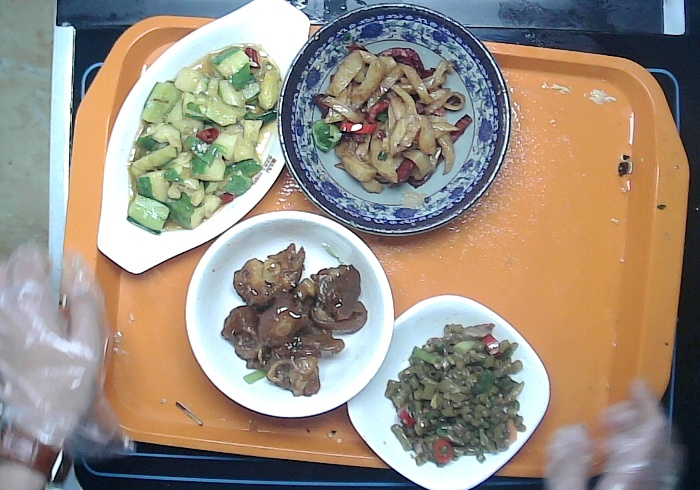ZNLD-Qing_Hua_Wan: (278, 3, 513, 238)
ZNLD-Si_Fang_Wan: (346, 292, 554, 490)
ZNLD-Tang_Wan: (186, 210, 396, 419)
ZNLD-Yu_Pan: (96, 1, 314, 275)
